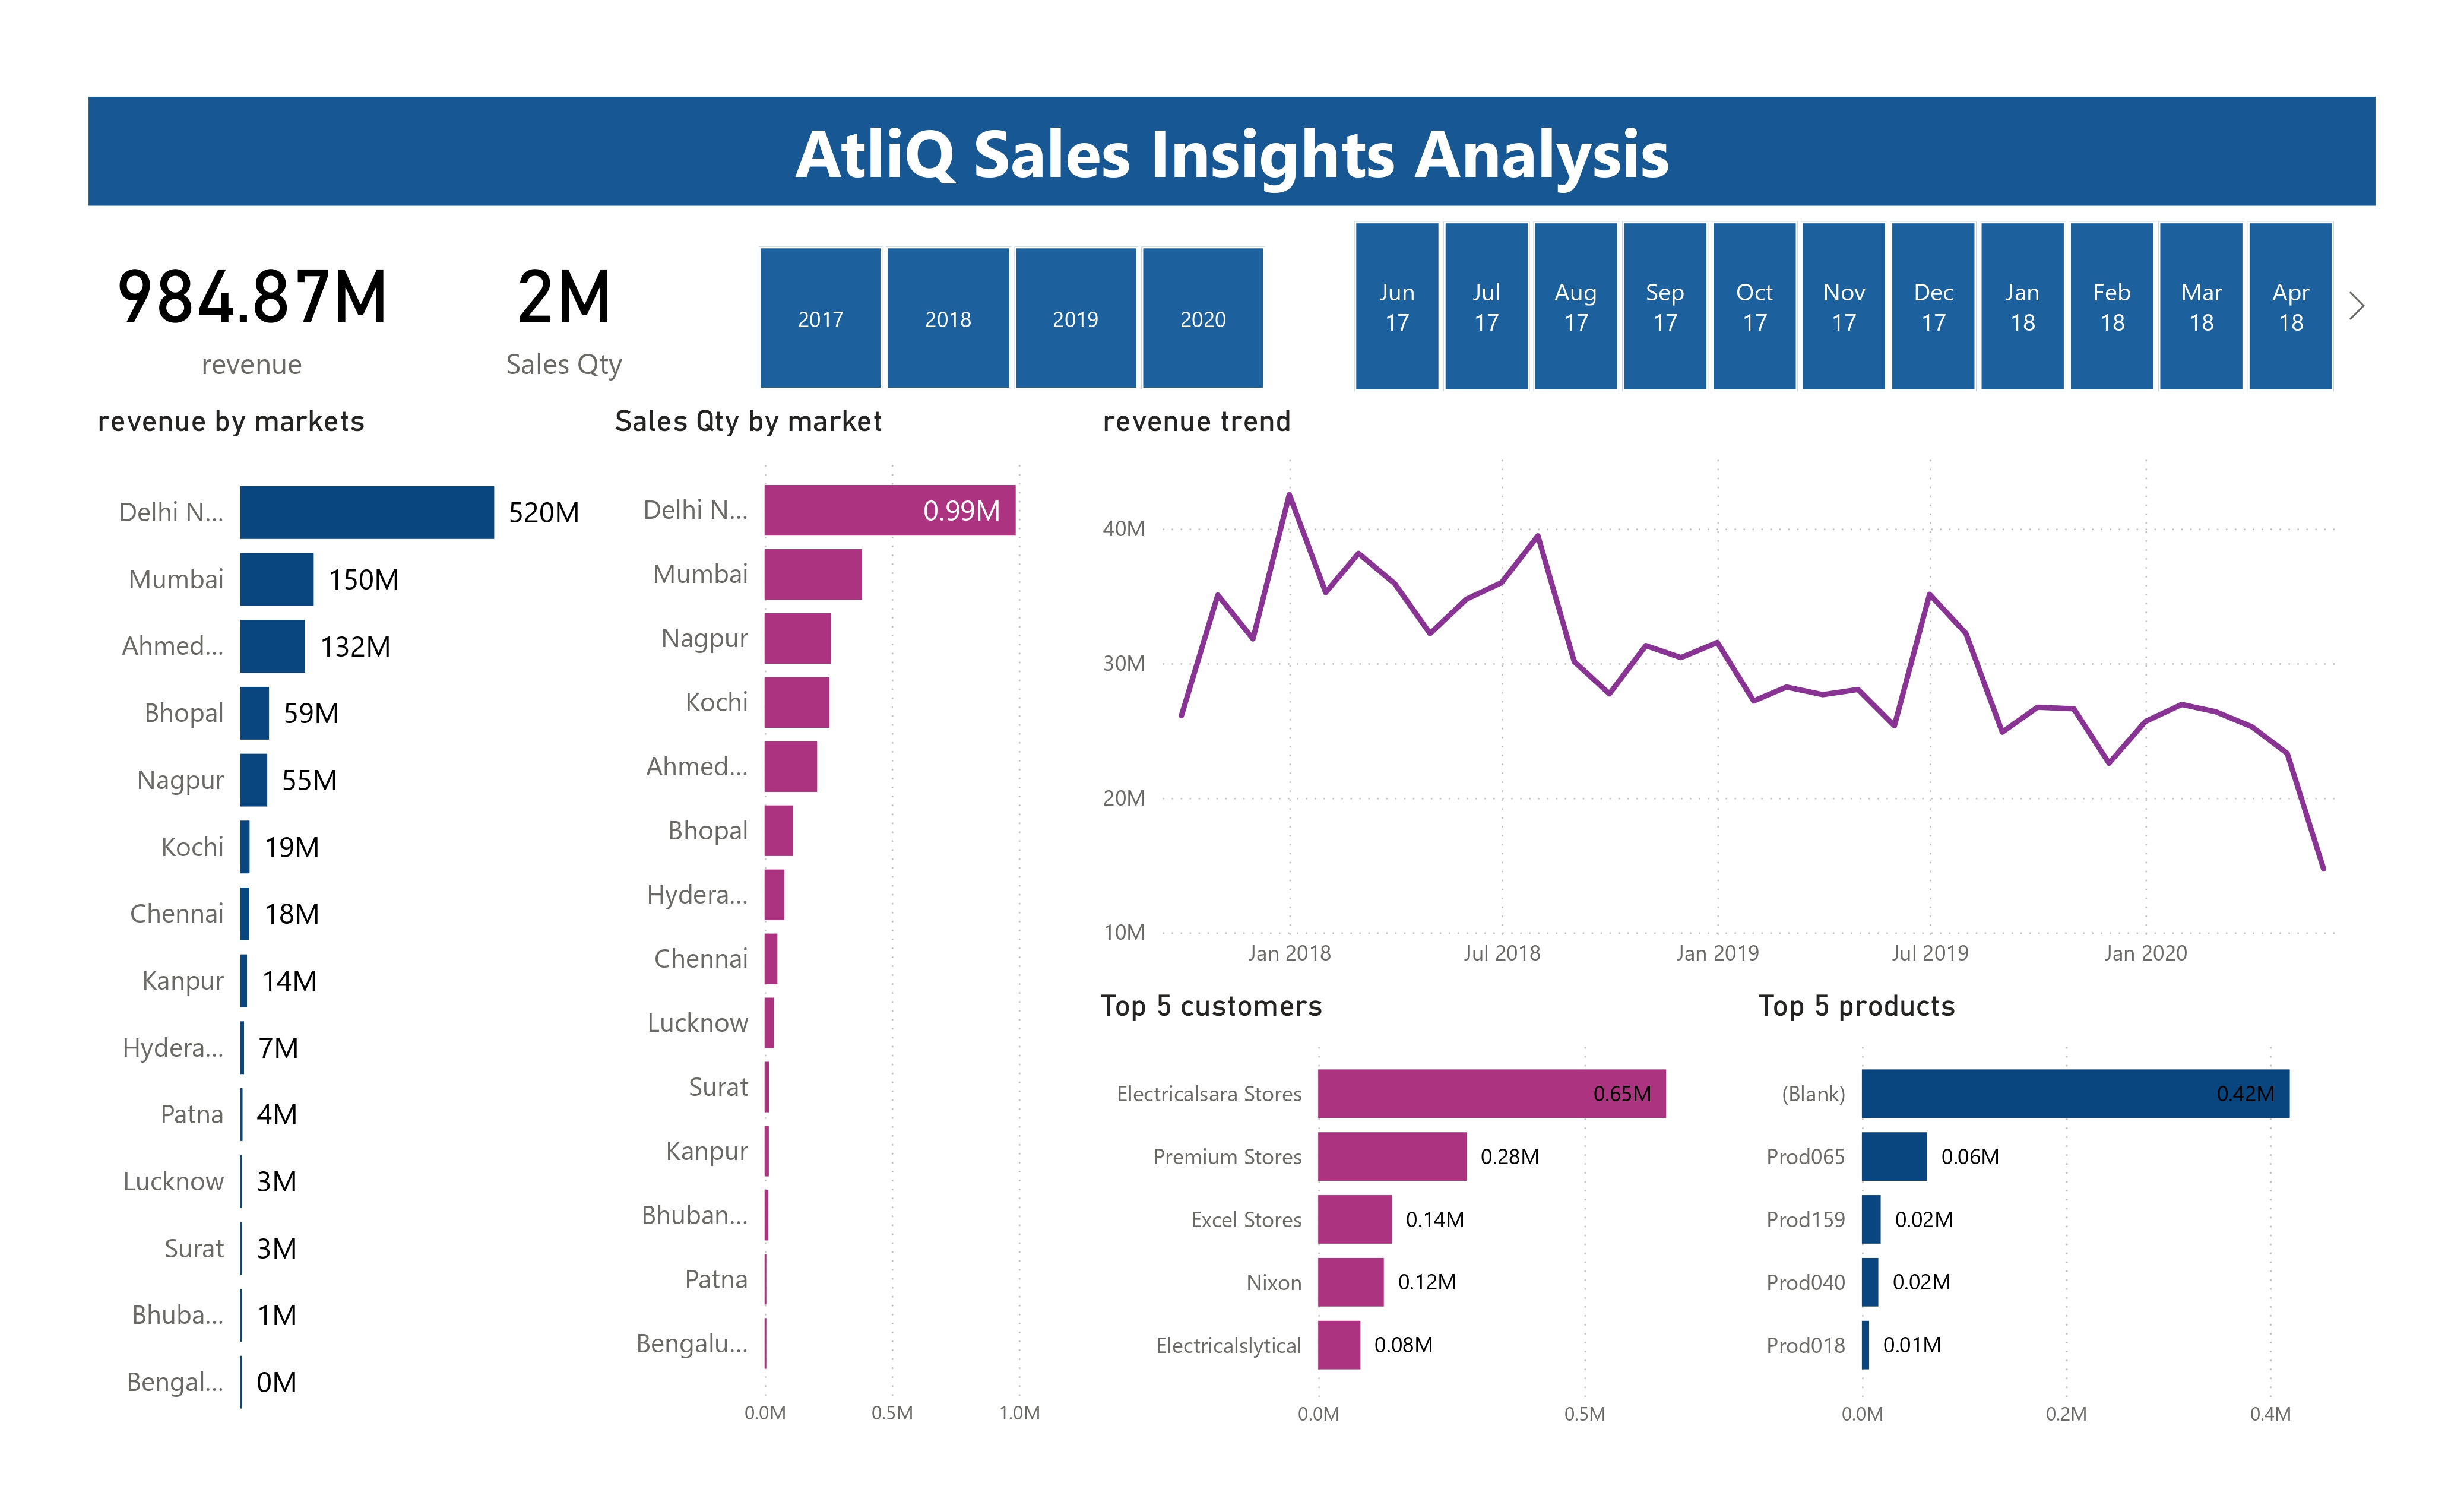

Layout of this report page (visuals, bound fields, positions):
{"tool":"powerbi","page":{"name":"Page 1","canvas":[1280,760],"ordinal":0},"visuals":[{"type":"card","fields":{"Values":["base_messures.revenue"]},"box":[0,62.4,182.9,108.9],"z":0},{"type":"card","fields":{"Values":["base_messures.Sales Qty"]},"box":[182.9,62.4,167,108.9],"z":1000},{"type":"barChart","title":"revenue by markets","fields":{"Y":["base_messures.revenue"],"Category":["sales markets.markets_name"]},"box":[0,171.3,288.9,583.7],"z":2000},{"type":"barChart","title":"Sales Qty by market","fields":{"Y":["base_messures.Sales Qty"],"Category":["sales markets.markets_name"]},"box":[288.9,171.3,273,583.7],"z":3000},{"type":"slicer","fields":{"Values":["sales date.year"]},"box":[349.3,62.8,333.2,108.2],"z":4000},{"type":"slicer","fields":{"Values":["sales date.cy_date"]},"box":[682.4,62.4,598.2,108.9],"z":5000},{"type":"barChart","title":"Top 5 customers","fields":{"Y":["base_messures.Sales Qty"],"Category":["sales customers.custmer_name"]},"box":[561.9,498,365.9,257],"z":6000},{"type":"barChart","title":"Top 5 products","fields":{"Y":["base_messures.Sales Qty"],"Category":["sales products.product_code"]},"box":[929.2,498,351.4,257],"z":7000},{"type":"lineChart","title":"revenue trend","fields":{"Y":["base_messures.revenue"],"Category":["sales date.cy_date"]},"box":[563.3,171.3,717.2,326.7],"z":8000},{"type":"textbox","box":[0,0,1280.3,61.4],"z":9000}]}

Visuals, with their boxes on the page's 1280x760 design canvas (x1, y1, x2, y2). These are canvas units, not pixel positions in the 2464x1499 screenshot, which may show the page scaled, cropped or inside an application window:
card - base_messures.revenue: l=0, t=62, r=183, b=171
card - base_messures.Sales Qty: l=183, t=62, r=350, b=171
"revenue by markets" barChart: l=0, t=171, r=289, b=755
"Sales Qty by market" barChart: l=289, t=171, r=562, b=755
slicer - sales date.year: l=349, t=63, r=682, b=171
slicer - sales date.cy_date: l=682, t=62, r=1281, b=171
"Top 5 customers" barChart: l=562, t=498, r=928, b=755
"Top 5 products" barChart: l=929, t=498, r=1281, b=755
"revenue trend" lineChart: l=563, t=171, r=1280, b=498
textbox: l=0, t=0, r=1280, b=61
